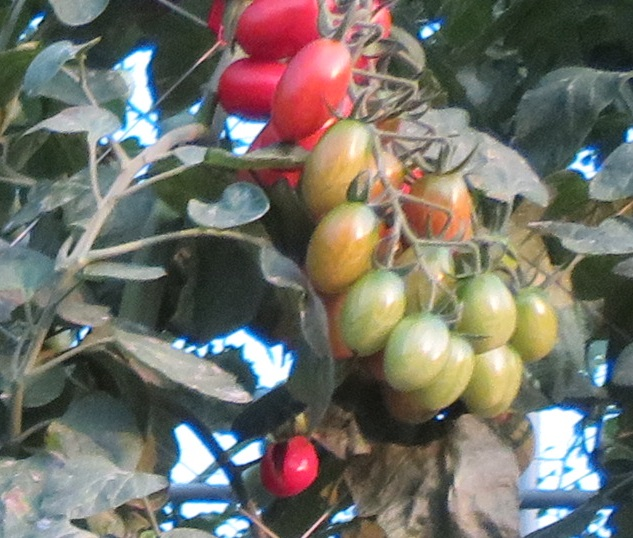green: (306, 201, 390, 295), (303, 116, 373, 216), (338, 267, 411, 359), (384, 312, 455, 392), (458, 269, 518, 352), (399, 243, 457, 312), (515, 286, 560, 365), (475, 356, 515, 408)
orange: (409, 172, 480, 235)
red: (269, 35, 351, 142), (228, 1, 329, 59), (219, 57, 289, 119), (262, 437, 321, 497)
